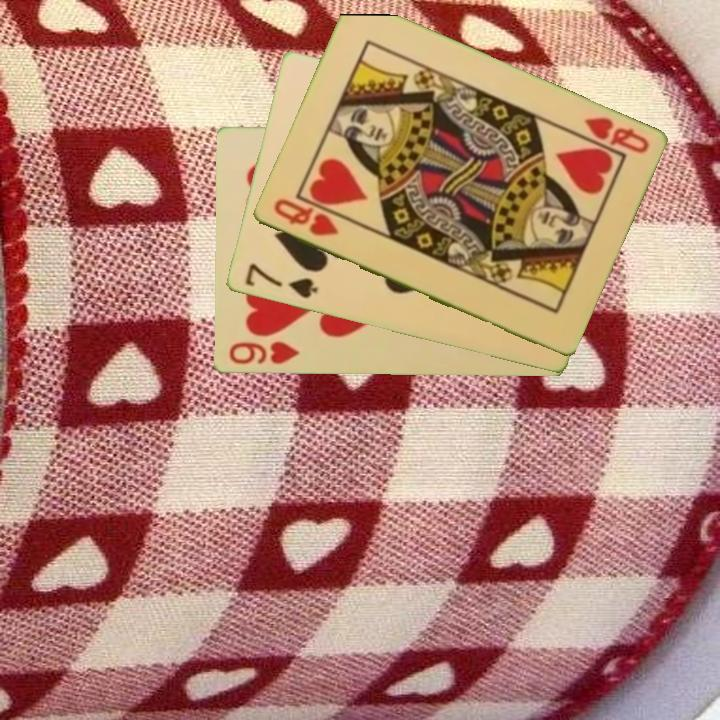7s: (241, 260, 321, 302)
9h: (225, 338, 302, 368)
Qh: (269, 195, 341, 240), (579, 113, 652, 157)
